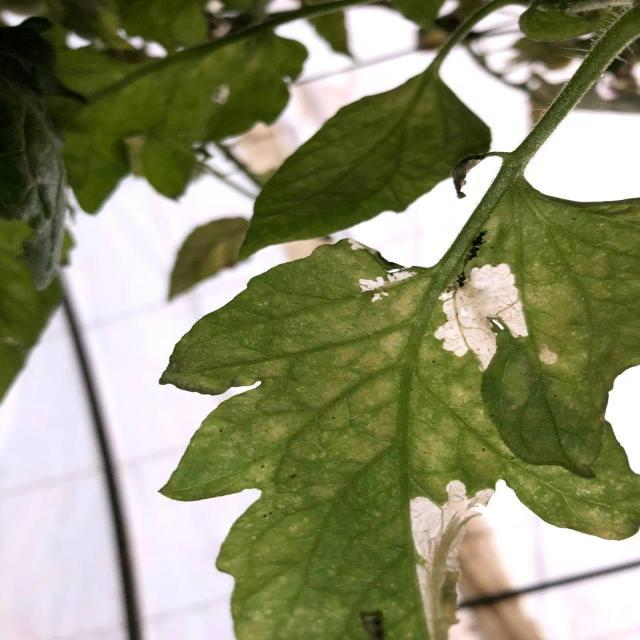Tuta absoluta: (416, 250, 550, 381), (411, 480, 494, 640), (359, 268, 417, 293), (534, 342, 560, 368), (370, 289, 388, 303)
